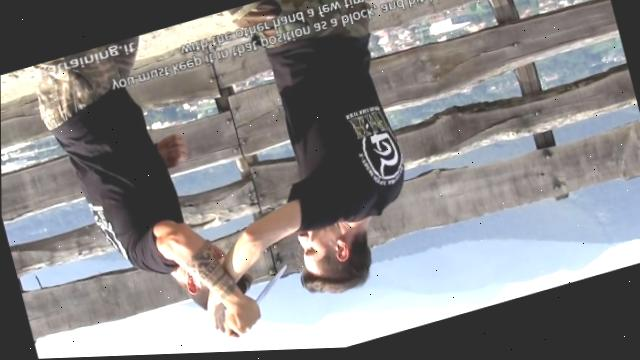long knife: (211, 259, 306, 346)
